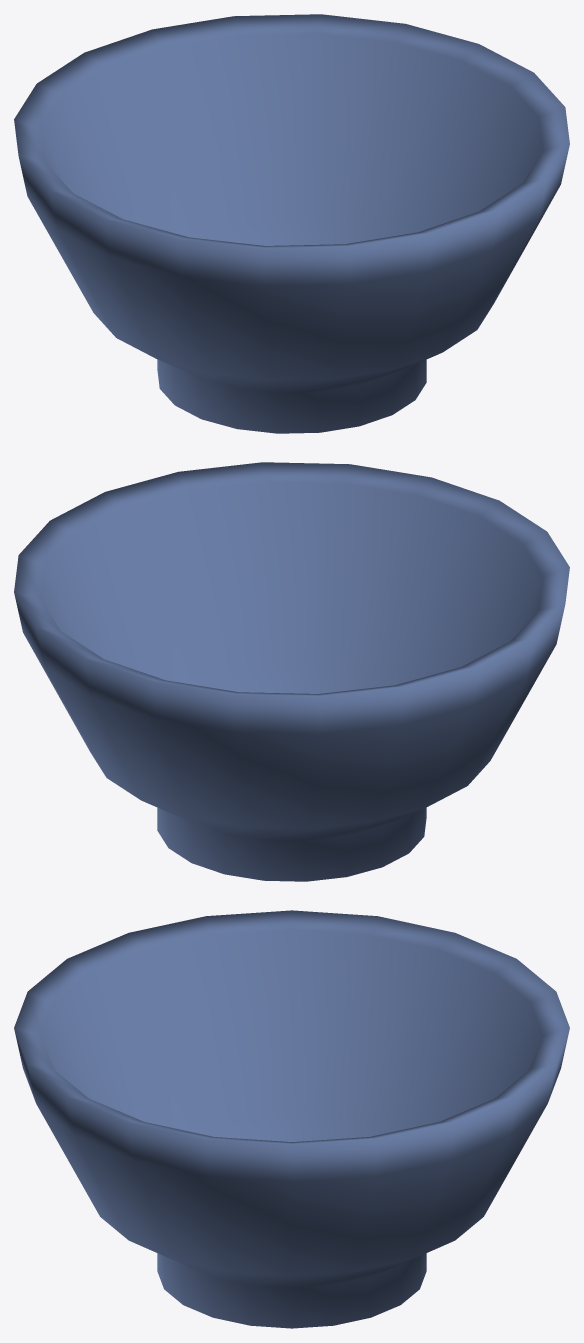
Rendered from RiceBowl.gltf.
3 renders of one model, top to bottom at view 1: azimuth 30°, elevation 25°; view 2: azimuth 150°, elevation 25°; view 3: azimuth 270°, elevation 25°, orthographic.
Visible parts, largest first — view 1: A_RiceBowl; view 2: A_RiceBowl; view 3: A_RiceBowl.
Part boxes in pixels (x1,y1,x2,y2): A_RiceBowl: [14, 14, 569, 433]; A_RiceBowl: [14, 462, 569, 881]; A_RiceBowl: [14, 910, 569, 1328].
Bounding box in the file's own units: 0.124 × 0.06 × 0.124.
